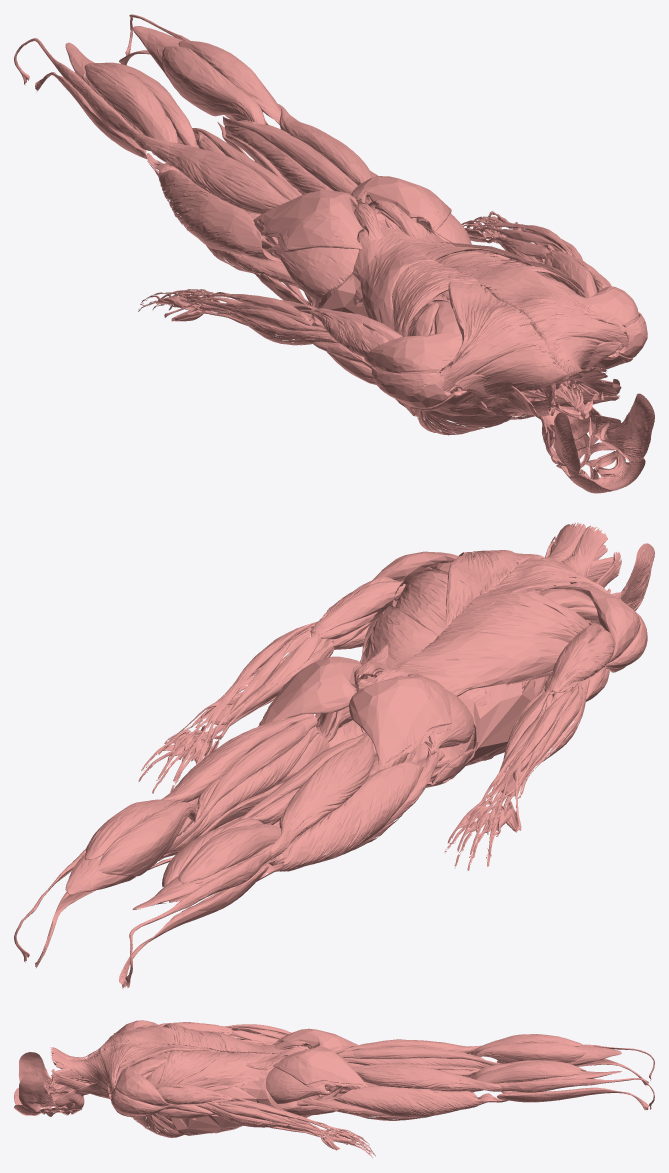
Rendered from anatomy.glb.
3 renders of one model, top to bottom at view 1: azimuth 30°, elevation 25°; view 2: azimuth 150°, elevation 25°; view 3: azimuth 270°, elevation 25°, orthographic. The views are drawn at different scales.
Parts seen in each view (by area): view 1: gastro (×4), lat (×2), glute-max (×2), trap-l (×2), biceps-fem (×2), facial (×4), vastus-lat, delt-p (×2), trap-u (×2), trap-m (×2), glute-med (×2), semitend (×2) (+13 smaller); view 2: lat (×2), glute-max (×2), gastro (×4), biceps-fem (×2), vastus-lat, fwd-ext (×4), trap-l (×2), triceps (×3), semitend (×2), semimemb (×2), fwd-flex (×4), oblique-ext (+13 smaller); view 3: lat (×2), gastro (×4), glute-max (×2), biceps-fem (×2), vastus-lat, trap-l (×2), facial (×3), fwd-ext (×5), semitend (×2), oblique-ext, triceps (×3), tib-ant (×2) (+19 smaller).
Part boxes in pixels (bbox=[...]): gastro (×4): bbox=[84, 40, 281, 165]; lat (×2): bbox=[352, 212, 585, 336]; glute-max (×2): bbox=[253, 176, 451, 251]; trap-l (×2): bbox=[448, 265, 608, 366]; biceps-fem (×2): bbox=[134, 104, 373, 214]; facial (×4): bbox=[454, 341, 654, 476]; vastus-lat: bbox=[146, 154, 281, 262]; delt-p (×2): bbox=[364, 286, 639, 374]; trap-u (×2): bbox=[469, 337, 607, 396]; trap-m (×2): bbox=[440, 311, 628, 390]; glute-med (×2): bbox=[268, 213, 471, 302]; semitend (×2): bbox=[177, 116, 373, 206]; lat (×2): bbox=[359, 568, 586, 696]; glute-max (×2): bbox=[258, 656, 451, 770]; gastro (×4): bbox=[84, 799, 281, 887]; biceps-fem (×2): bbox=[161, 714, 374, 859]; vastus-lat: bbox=[257, 762, 423, 881]; fwd-ext (×4): bbox=[141, 627, 582, 855]; trap-l (×2): bbox=[444, 550, 607, 629]; triceps (×3): bbox=[311, 581, 614, 692]; semitend (×2): bbox=[164, 715, 365, 854]; semimemb (×2): bbox=[167, 726, 319, 853]; fwd-flex (×4): bbox=[211, 633, 549, 870]; oblique-ext: bbox=[450, 679, 545, 779]; lat (×2): bbox=[157, 1023, 288, 1091]; gastro (×4): bbox=[470, 1034, 586, 1092]; glute-max (×2): bbox=[273, 1028, 368, 1090]; biceps-fem (×2): bbox=[342, 1039, 502, 1091]; vastus-lat: bbox=[329, 1086, 507, 1117]; trap-l (×2): bbox=[113, 1027, 217, 1084]; facial (×3): bbox=[19, 1052, 110, 1110]; fwd-ext (×5): bbox=[207, 1024, 370, 1152]; semitend (×2): bbox=[338, 1047, 519, 1092]; oblique-ext: bbox=[168, 1078, 305, 1135]; triceps (×3): bbox=[153, 1022, 232, 1104]; tib-ant (×2): bbox=[496, 1058, 648, 1109].
Bounding box in the file's own units: 623 × 244 × 1652.
